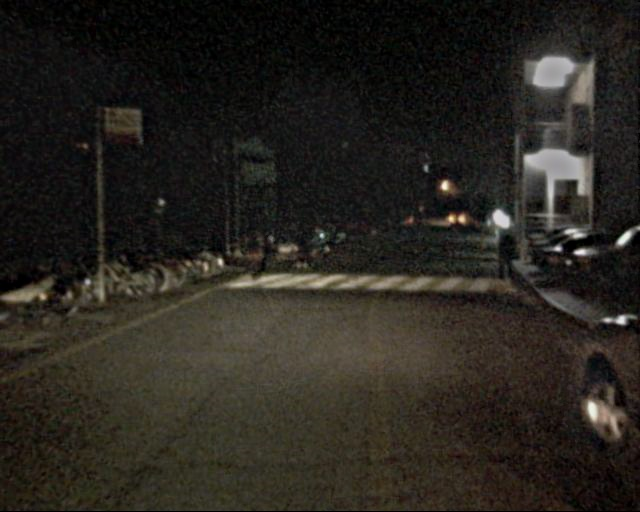person: (492, 227, 518, 291), (238, 223, 263, 283), (288, 223, 305, 265)
